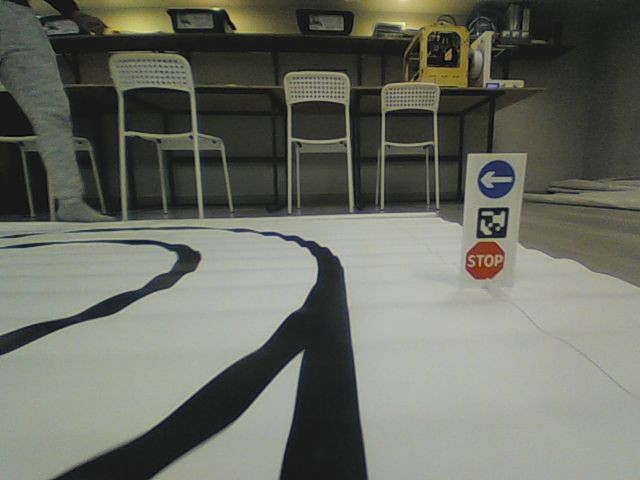Stop: (464, 239, 506, 280)
